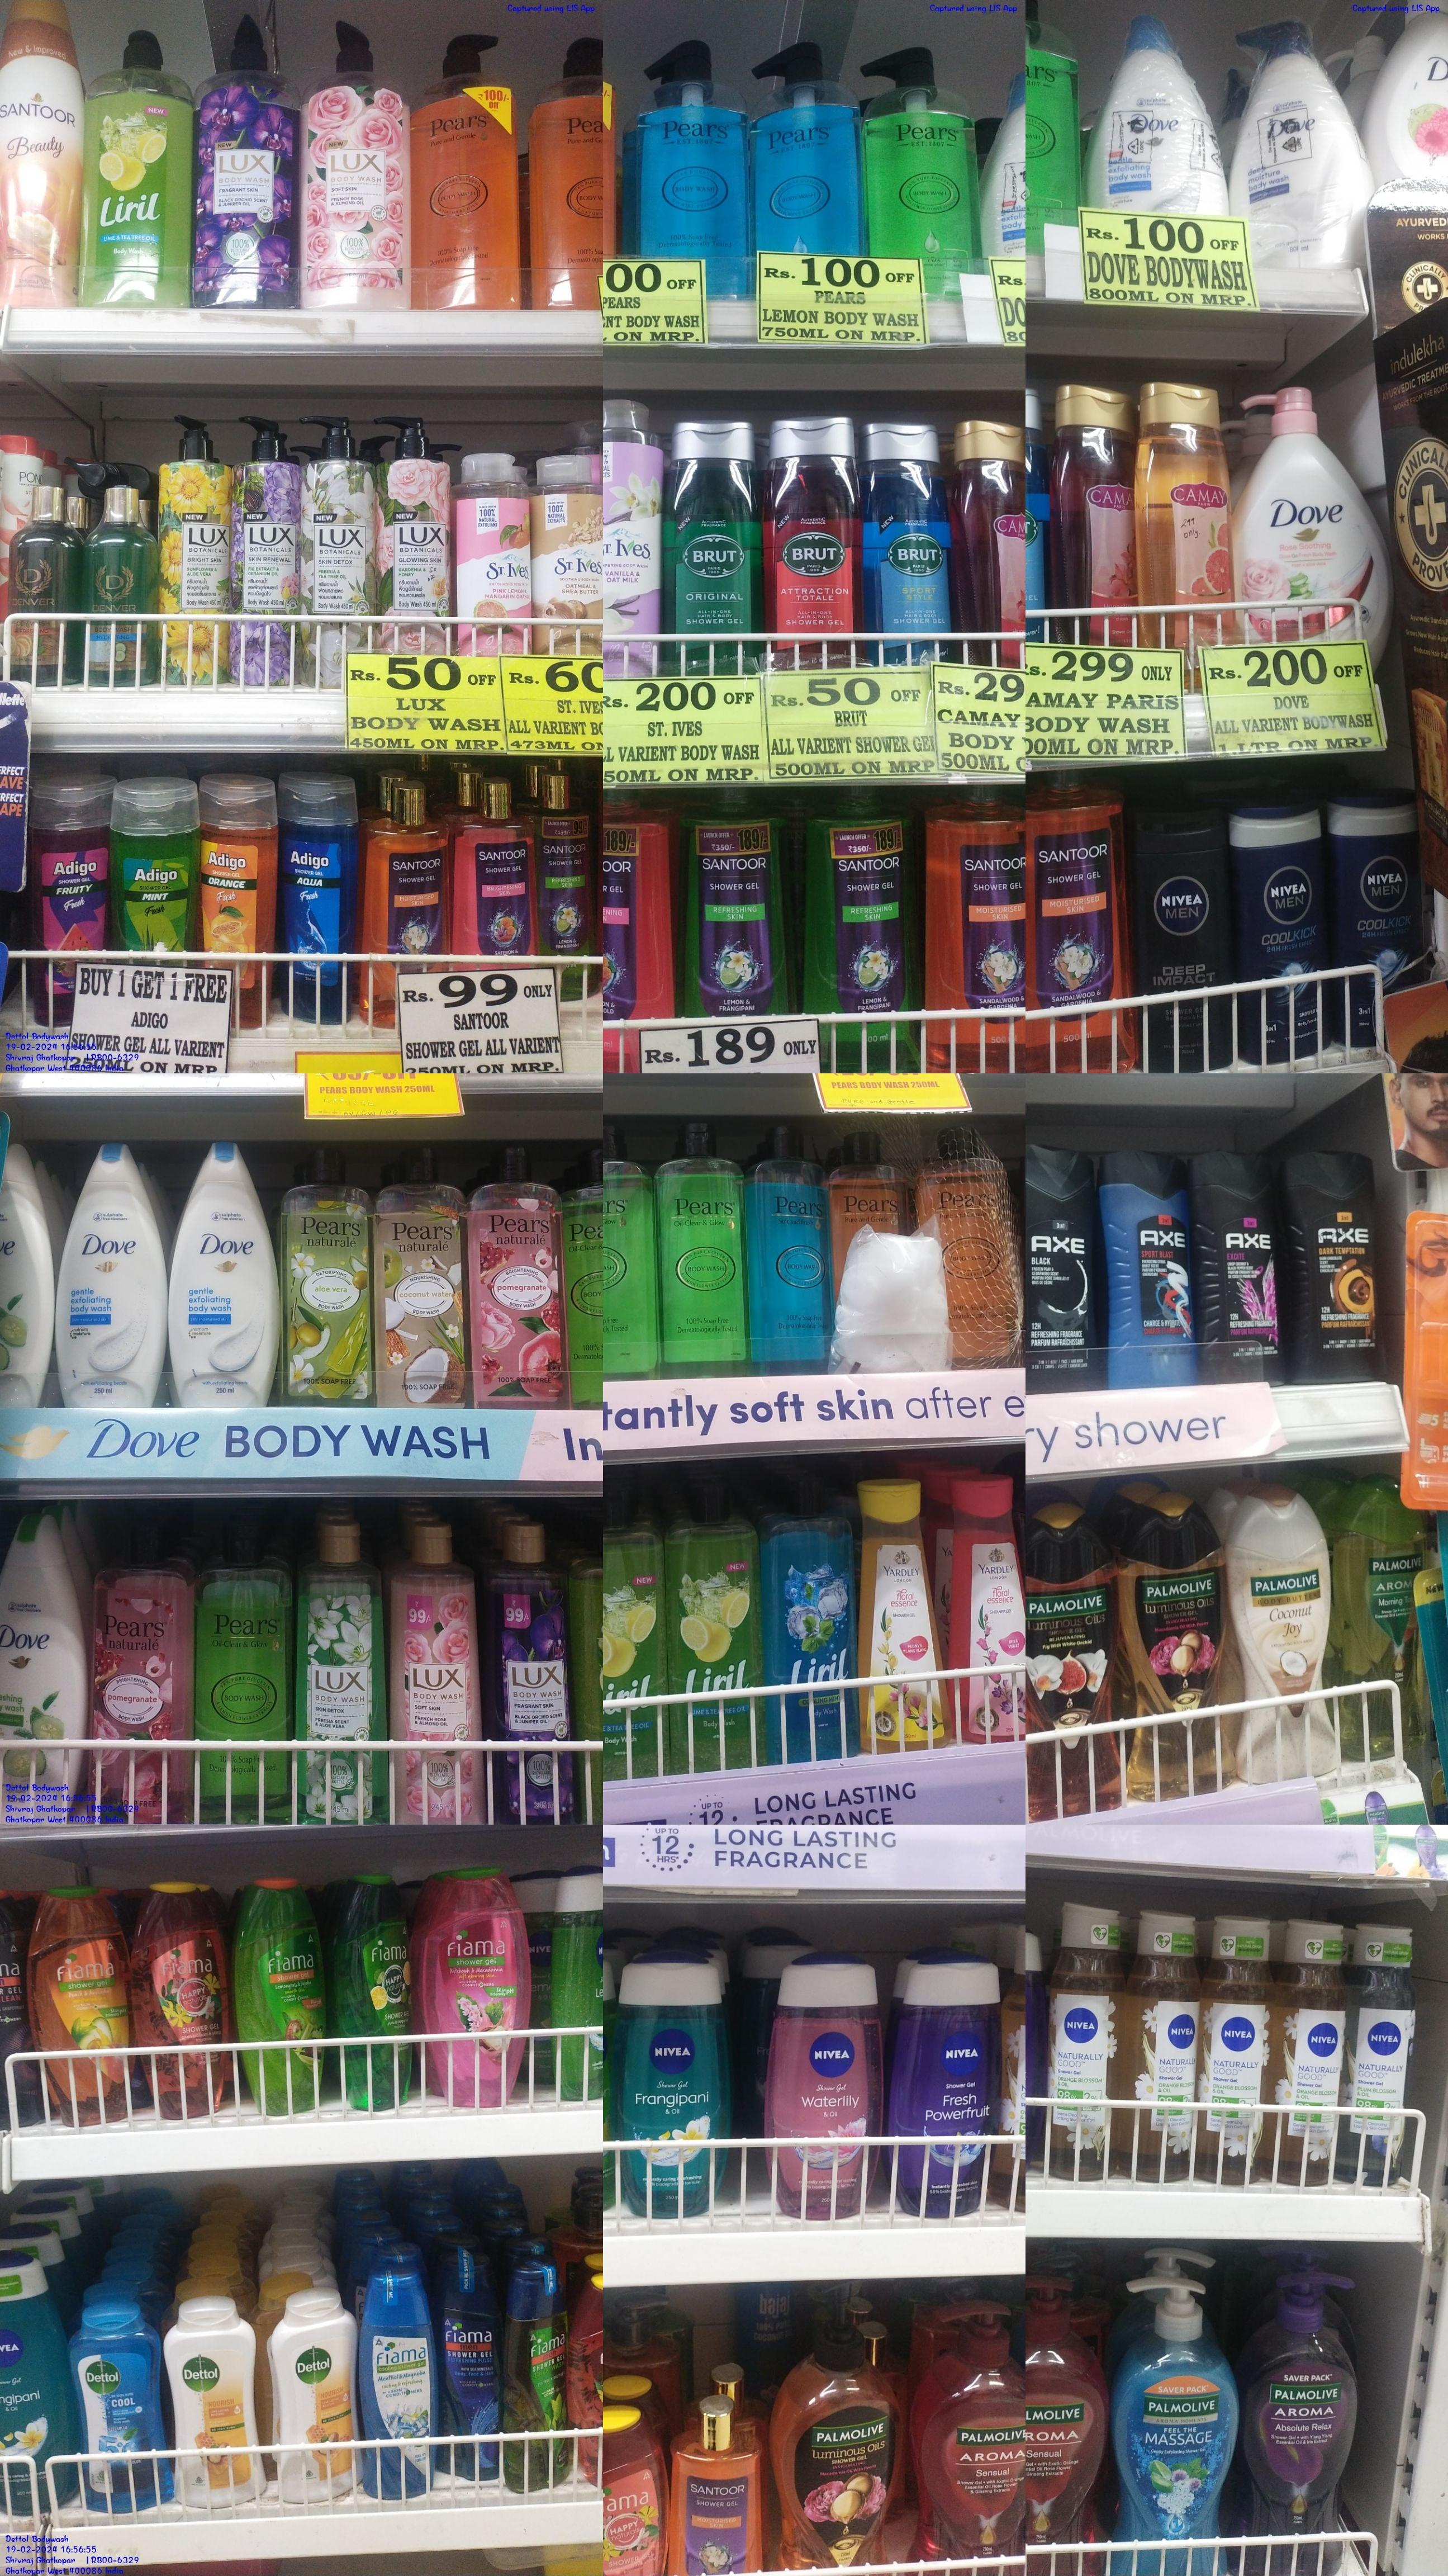Dettol_Bodywash_Cool: (72, 2298, 166, 2512)
Dettol_Nourish_Body_Wash_250ML: (170, 2298, 267, 2507), (271, 2288, 359, 2502)
Dove_Gentle_Exfoliating_Body_Wash_250ML: (170, 1139, 283, 1401), (55, 1139, 166, 1405)
Dove_Refreshing_Body_Wash_250ML: (2, 1516, 87, 1828)
Fiama_Shower_Gel_Lemongrass_and_Jojoba_250ML: (235, 1882, 324, 2116)
Fiama_Shower_Gel_Patchouli_and_Macadamia_250ML: (419, 1865, 530, 2104)
Fiama_Shower_Gel_Peach_and_Avocado_250ML: (30, 1879, 131, 2125)
Liril_Cooling_Mint_Body_Wash_250ML: (767, 1472, 859, 1760)
Liril_Lime_and_Tea_Tree_Oil_Body_Wash_250ML: (670, 1465, 762, 1766)
Lux_Black_Orchid_Scent_and_Juniper_Oil_Body_Wash_245ML: (481, 1514, 571, 1824)
Lux_Body_Wash_Skin_Detox_Freesia_Scent_and_Alove_Vera_245ML: (301, 1509, 389, 1826)
Nivea_Shower_Gel_Frangipani_and_Oil_250ML: (613, 1959, 730, 2213)
Nivea_Shower_Gel_Fresh_Powerfruit_250ML: (893, 1953, 999, 2222)
Nivea_Shower_Gel_Waterlily_and_Oil_250ML: (766, 1939, 884, 2217)
Palmolive_Aroma_Morning_Tonic_Shower_Gel_250ML: (1340, 1483, 1420, 1759)
Palmolive_Luminous_Oils_Invigorating_Macadamia_Oil_With_Peony_250ML: (1121, 1500, 1225, 1789)
Palmolive_Luminous_Oils_With_White_Orchid_Shower_Gel_250ML: (1024, 1509, 1117, 1808)
Pears_Naturale_Aloe_Vera_Body_Wash_250ML: (290, 1139, 375, 1401)
Pears_Pure_Glycerin_and_Lemon_Flower_Extracts_Body_Wash_250ML: (196, 1514, 293, 1821), (659, 1122, 746, 1375)
Pears_Pure_Glycerin_and_Mint_Extracts_Body_Wash_250ML: (753, 1120, 827, 1373)
